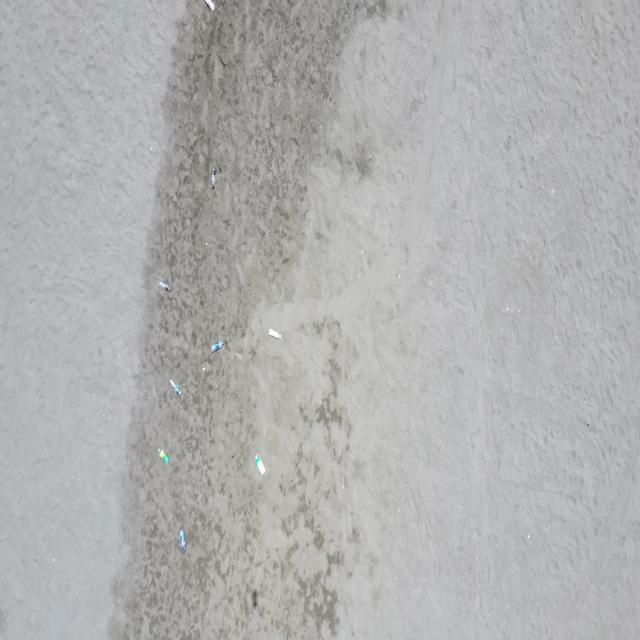Garbage: (169, 379, 180, 395), (179, 528, 186, 552), (158, 448, 169, 463), (255, 455, 264, 473), (209, 165, 216, 187), (267, 327, 279, 339), (212, 340, 223, 352), (159, 280, 169, 291), (204, 0, 212, 11)
